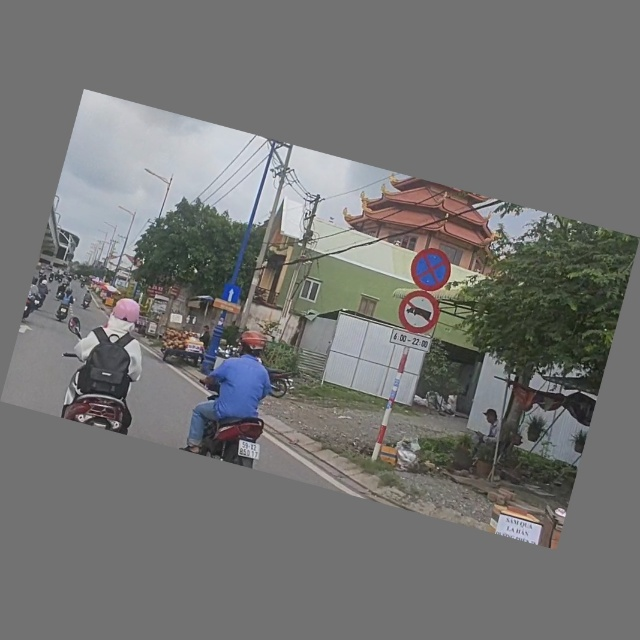B.8a: (393, 286, 444, 338)
I.407a: (219, 284, 244, 307)
P.130: (406, 244, 456, 296)
